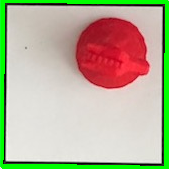Red Knight: (74, 10, 152, 93)
